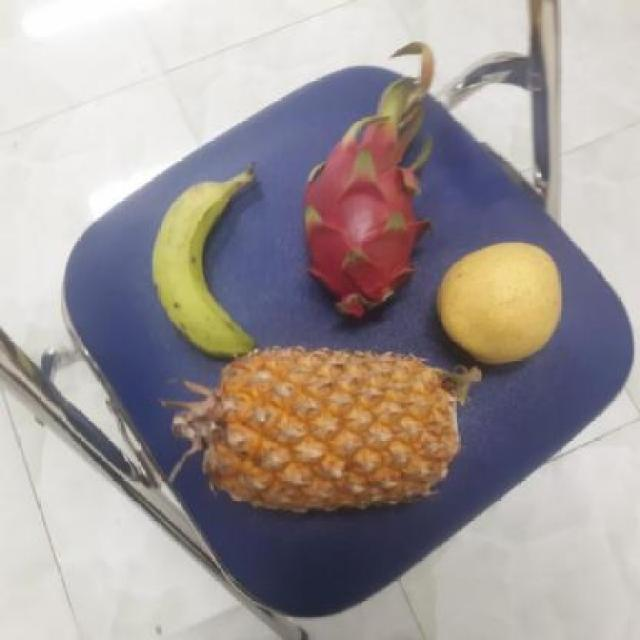banana: (147, 173, 258, 361)
dragon fruit: (296, 119, 429, 312)
pear: (435, 239, 570, 367)
pineapple: (179, 343, 466, 514)
